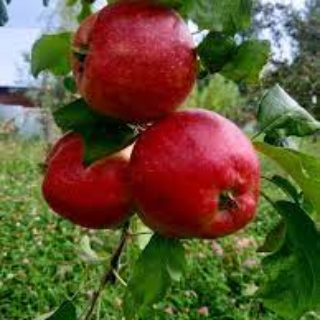tao: (130, 104, 263, 247), (68, 1, 202, 128)
